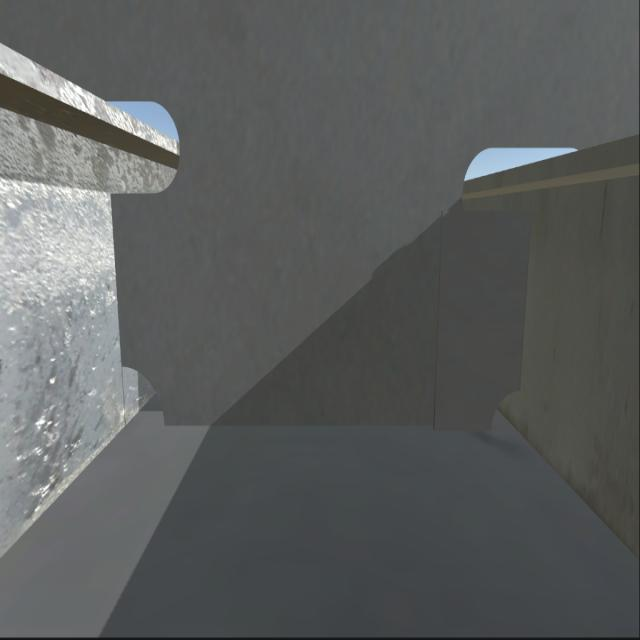fillet_hole: (121, 368, 167, 427), (488, 389, 520, 437)
fillet_yong_jeop_jang: (164, 426, 484, 434)
longi_yong_jeop_jang: (516, 212, 532, 386), (110, 194, 117, 370)
plate_CP03: (435, 209, 527, 439)
